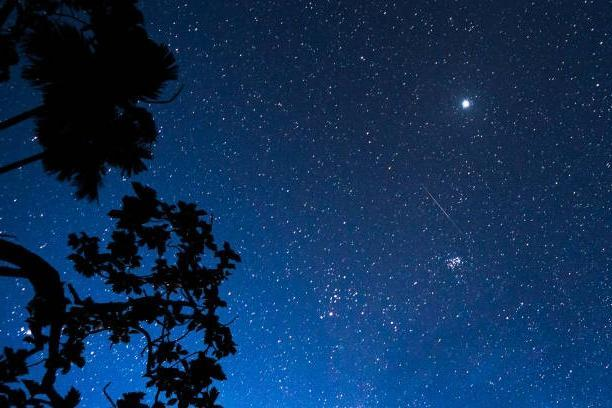meteorite: (423, 185, 459, 241)
